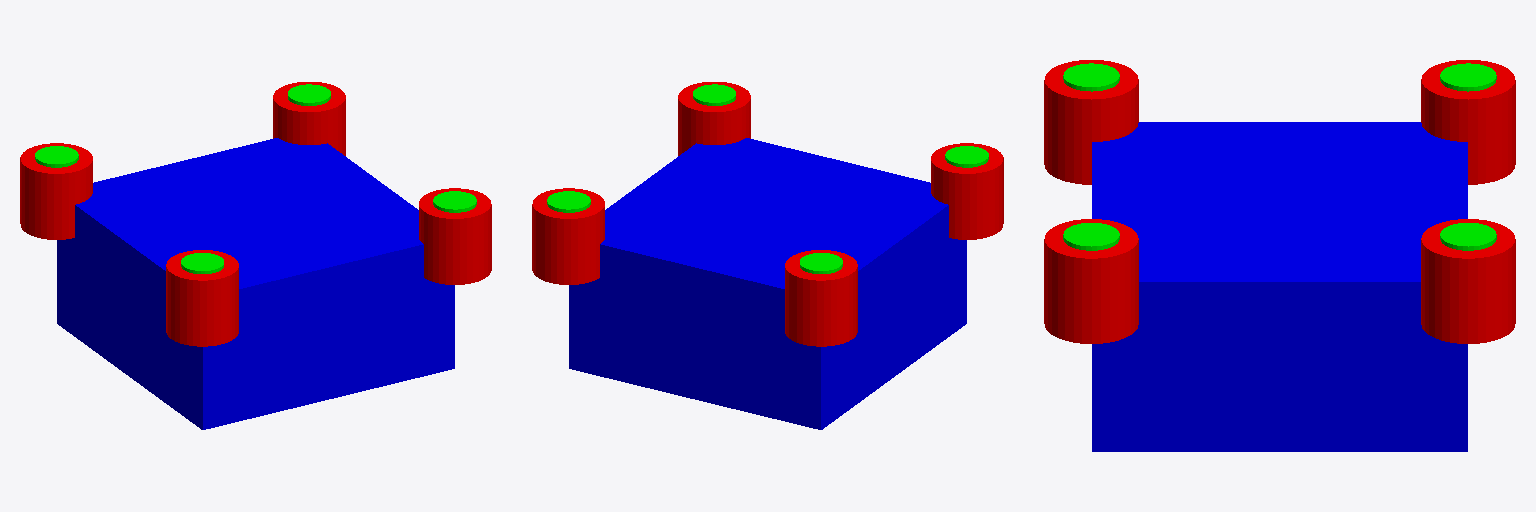
URDF robot description (drone):
<?xml version="1.0" ?>
<robot name="drone">

  <!-- Drone'un ana gövdesi -->
  <link name="base_link">
    <inertial>
      <mass value="1.0"/> <!-- Kütle -->
      <inertia ixx="0.01" ixy="0" ixz="0" iyy="0.01" iyz="0" izz="0.01"/> <!-- İnersi tensoru -->
    </inertial>
    <collision>
      <geometry>
        <box size="0.4 0.4 0.2"/> <!-- Gövde boyutu -->
      </geometry>
    </collision>
    <visual>
      <geometry>
        <box size="0.4 0.4 0.2"/>
      </geometry>
      <material name="blue">
        <color rgba="0 0 1 1"/> <!-- Renk -->
      </material>
    </visual>
  </link>

  <!-- 1. Motor -->
  <link name="motor1">
    <visual>
      <geometry>
        <cylinder radius="0.05" length="0.1"/>
      </geometry>
      <material name="red">
        <color rgba="1 0 0 1"/>
      </material>
    </visual>
  </link>
  
  <!-- 2. Motor -->
  <link name="motor2">
    <visual>
      <geometry>
        <cylinder radius="0.05" length="0.1"/>
      </geometry>
      <material name="red">
        <color rgba="1 0 0 1"/>
      </material>
    </visual>
  </link>

  <!-- 3. Motor -->
  <link name="motor3">
    <visual>
      <geometry>
        <cylinder radius="0.05" length="0.1"/>
      </geometry>
      <material name="red">
        <color rgba="1 0 0 1"/>
      </material>
    </visual>
  </link>

  <!-- 4. Motor -->
  <link name="motor4">
    <visual>
      <geometry>
        <cylinder radius="0.05" length="0.1"/>
      </geometry>
      <material name="red">
        <color rgba="1 0 0 1"/>
      </material>
    </visual>
  </link>

  <!-- Motorların bağlantıları (her bir motorun ana gövdeye sabitlenmesi) -->
  <joint name="motor1_joint" type="fixed">
    <parent link="base_link"/>
    <child link="motor1"/>
    <origin xyz="0.2 0.2 0.1"/> <!-- Motor 1'in pozisyonu -->
  </joint>

  <joint name="motor2_joint" type="fixed">
    <parent link="base_link"/>
    <child link="motor2"/>
    <origin xyz="-0.2 0.2 0.1"/> <!-- Motor 2'nin pozisyonu -->
  </joint>

  <joint name="motor3_joint" type="fixed">
    <parent link="base_link"/>
    <child link="motor3"/>
    <origin xyz="-0.2 -0.2 0.1"/> <!-- Motor 3'ün pozisyonu -->
  </joint>

  <joint name="motor4_joint" type="fixed">
    <parent link="base_link"/>
    <child link="motor4"/>
    <origin xyz="0.2 -0.2 0.1"/> <!-- Motor 4'ün pozisyonu -->
  </joint>

  <!-- Pervanelerin görsel temsilini ekleyebiliriz -->
  <link name="propeller1">
    <visual>
      <geometry>
        <cylinder radius="0.03" length="0.01"/>
      </geometry>
      <material name="green">
        <color rgba="0 1 0 1"/>
      </material>
    </visual>
  </link>
  
  <link name="propeller2">
    <visual>
      <geometry>
        <cylinder radius="0.03" length="0.01"/>
      </geometry>
      <material name="green">
        <color rgba="0 1 0 1"/>
      </material>
    </visual>
  </link>

  <link name="propeller3">
    <visual>
      <geometry>
        <cylinder radius="0.03" length="0.01"/>
      </geometry>
      <material name="green">
        <color rgba="0 1 0 1"/>
      </material>
    </visual>
  </link>

  <link name="propeller4">
    <visual>
      <geometry>
        <cylinder radius="0.03" length="0.01"/>
      </geometry>
      <material name="green">
        <color rgba="0 1 0 1"/>
      </material>
    </visual>
  </link>

  <!-- Pervanelerin bağlantıları (her bir pervaneyi ilgili motora bağla) -->
  <joint name="propeller1_joint" type="fixed">
    <parent link="motor1"/>
    <child link="propeller1"/>
    <origin xyz="0 0 0.05"/>
  </joint>

  <joint name="propeller2_joint" type="fixed">
    <parent link="motor2"/>
    <child link="propeller2"/>
    <origin xyz="0 0 0.05"/>
  </joint>

  <joint name="propeller3_joint" type="fixed">
    <parent link="motor3"/>
    <child link="propeller3"/>
    <origin xyz="0 0 0.05"/>
  </joint>

  <joint name="propeller4_joint" type="fixed">
    <parent link="motor4"/>
    <child link="propeller4"/>
    <origin xyz="0 0 0.05"/>
  </joint>

</robot>

--- Render facts (derived) ---
The picture shows the robot from 3 angles, left to right: view 1: azimuth 30°, elevation 25°; view 2: azimuth 150°, elevation 25°; view 3: azimuth 270°, elevation 25°; orthographic projection.
Model drone with 9 links and 8 joints (8 fixed), rooted at base_link, posed every joint at zero.
Links seen in each view (by area): view 1: base_link, motor3, motor4, motor2, motor1, propeller2, propeller4, propeller1, propeller3; view 2: base_link, motor2, motor1, motor3, motor4, propeller3, propeller1, propeller4, propeller2; view 3: base_link, motor1, motor4, motor2, motor3, propeller1, propeller4, propeller2, propeller3.
Link boxes in pixels (x1=…): base_link: x1=57, y1=138, x2=454, y2=429; motor3: x1=166, y1=250, x2=238, y2=346; motor4: x1=419, y1=188, x2=491, y2=284; motor2: x1=20, y1=143, x2=92, y2=239; motor1: x1=273, y1=82, x2=345, y2=155; propeller2: x1=35, y1=146, x2=78, y2=167; propeller4: x1=433, y1=191, x2=476, y2=212; propeller1: x1=288, y1=84, x2=330, y2=105; propeller3: x1=181, y1=253, x2=223, y2=273; base_link: x1=569, y1=138, x2=966, y2=429; motor2: x1=785, y1=250, x2=857, y2=346; motor1: x1=532, y1=188, x2=604, y2=284; motor3: x1=931, y1=143, x2=1003, y2=239; motor4: x1=678, y1=82, x2=750, y2=155; propeller3: x1=945, y1=146, x2=988, y2=167; propeller1: x1=547, y1=191, x2=590, y2=212; propeller4: x1=693, y1=84, x2=735, y2=105; propeller2: x1=800, y1=253, x2=842, y2=273; base_link: x1=1092, y1=122, x2=1467, y2=451; motor1: x1=1421, y1=219, x2=1515, y2=343; motor4: x1=1044, y1=219, x2=1138, y2=343; motor2: x1=1421, y1=60, x2=1515, y2=184; motor3: x1=1044, y1=60, x2=1138, y2=184; propeller1: x1=1440, y1=223, x2=1496, y2=250; propeller4: x1=1063, y1=223, x2=1119, y2=250; propeller2: x1=1440, y1=63, x2=1496, y2=91; propeller3: x1=1063, y1=63, x2=1119, y2=91.
Size in the robot's own frame: 0.5 by 0.5 by 0.255 metres.
Geometry: primitives only (box / cylinder / sphere), no mesh files.
